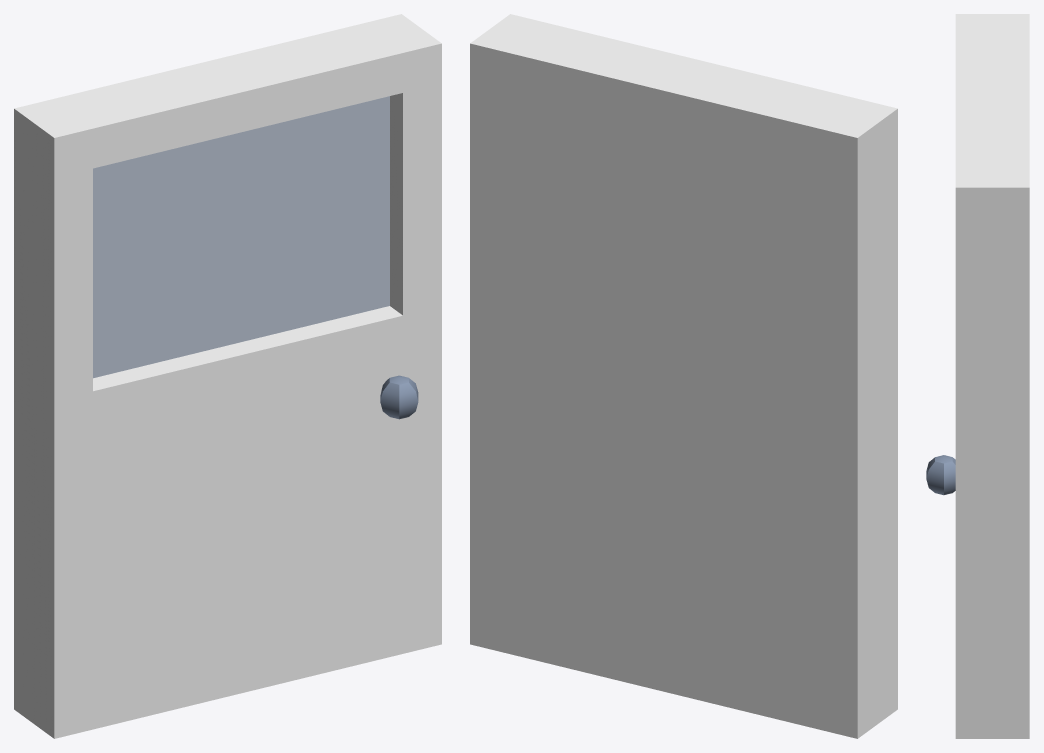
File: door_exterior.glb
The picture shows the model from 3 angles, left to right: view 1: azimuth 30°, elevation 25°; view 2: azimuth 150°, elevation 25°; view 3: azimuth 270°, elevation 25°; orthographic projection. The views are drawn at different scales.
Visible parts, largest first — view 1: Door.Exterior.001; view 2: Door.Exterior.001; view 3: Door.Exterior.001.
Boxes of the visible parts, box(x1,y1,x2,y2) form: Door.Exterior.001: box(14, 14, 441, 738); Door.Exterior.001: box(470, 14, 897, 738); Door.Exterior.001: box(926, 14, 1029, 738).
Bounding box in the file's own units: 0.7389 × 1.09 × 0.1856.
1 material, 1 textured.
